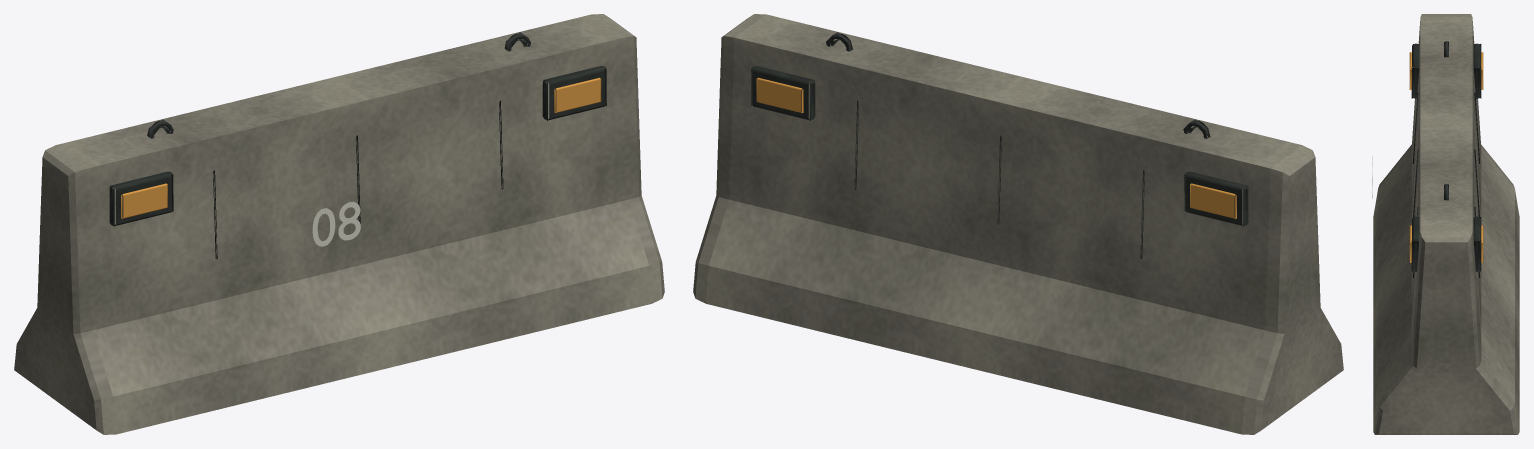
The model's file is jersey_barrier.glb.
3 views of the same model, side by side, from view 1: azimuth 30°, elevation 25°; view 2: azimuth 150°, elevation 25°; view 3: azimuth 270°, elevation 25° (orthographic). The views are drawn at different scales.
Parts seen in each view (by area): view 1: jersey_barrier_premium, HQ_stencil_08; view 2: jersey_barrier_premium; view 3: jersey_barrier_premium.
Part boxes in pixels (x1,y1,x2,y2): jersey_barrier_premium: (14,14,664,434); HQ_stencil_08: (312,202,360,246); jersey_barrier_premium: (693,14,1343,434); jersey_barrier_premium: (1373,14,1519,434).
Size of the model in its own units: 2.54 by 1.11 by 0.6987.
4 materials, 2 textured.
